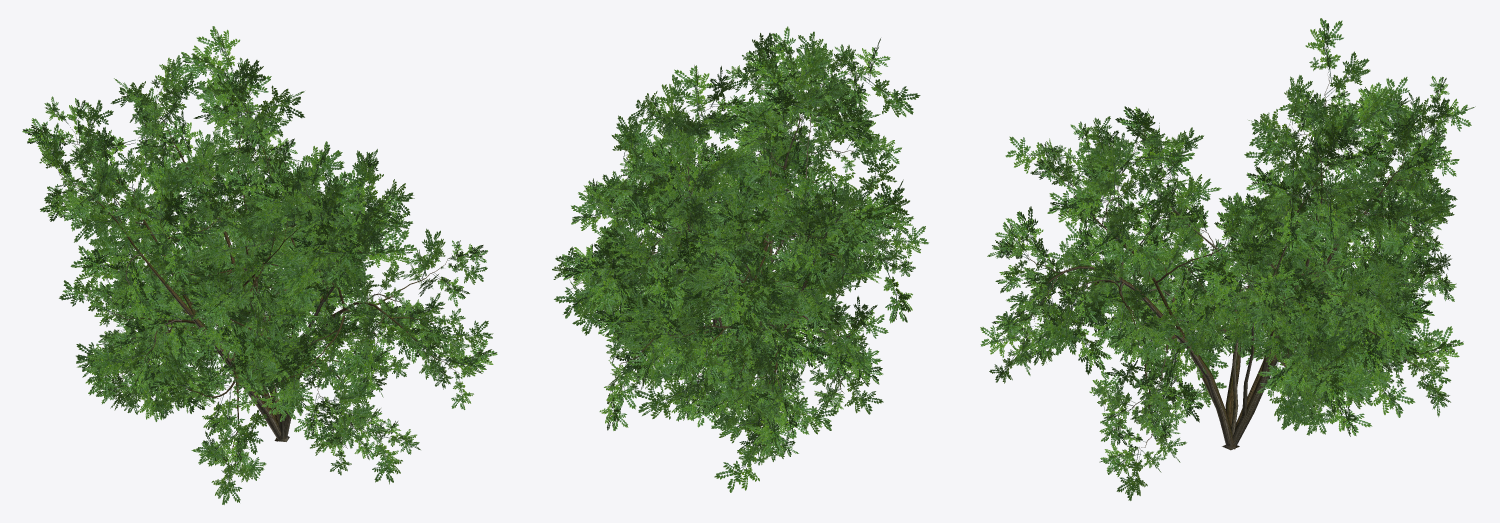
Rendered from bush.glb.
3 views of the same model, side by side, from view 1: azimuth 30°, elevation 25°; view 2: azimuth 150°, elevation 25°; view 3: azimuth 270°, elevation 25° (orthographic). The views are drawn at different scales.
Visible parts, largest first — view 1: Tree; view 2: Tree; view 3: Tree.
Part boxes in pixels (x1,y1,x2,y2): Tree: (22, 26, 497, 504); Tree: (552, 26, 928, 492); Tree: (980, 18, 1475, 500).
Bounding box in the file's own units: 28.47 × 28.6 × 32.67.
2 materials, 2 textured.
